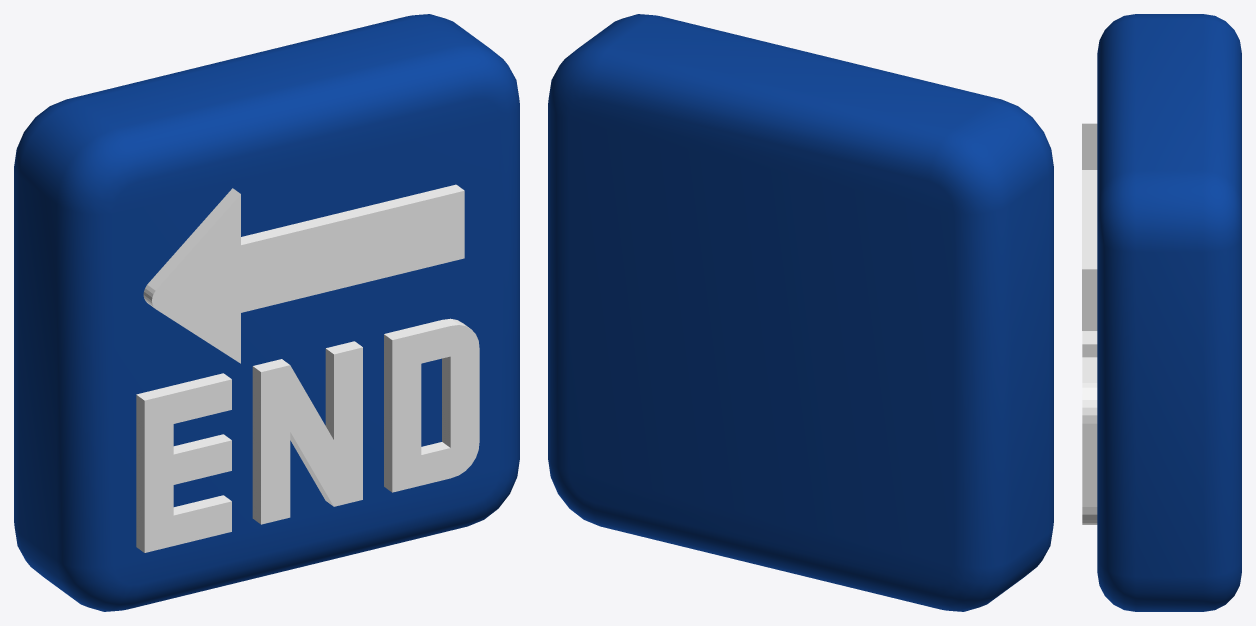
File: end_arrow.glb
The picture shows the model from 3 angles, left to right: view 1: azimuth 30°, elevation 25°; view 2: azimuth 150°, elevation 25°; view 3: azimuth 270°, elevation 25°; orthographic projection. The views are drawn at different scales.
Visible parts, largest first — view 1: Cube.6352; view 2: Cube.6352; view 3: Cube.6352.
Part boxes in pixels (x1,y1,x2,y2): Cube.6352: (14, 14, 519, 611); Cube.6352: (548, 14, 1053, 611); Cube.6352: (1082, 14, 1241, 611).
Size of the model in its own units: 2.2 by 2.2 by 0.7301.
1 material, 1 textured.
